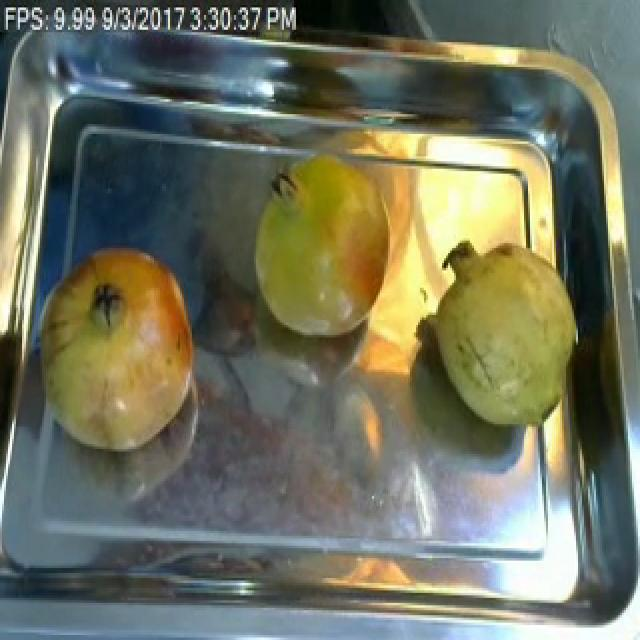fruit: (30, 231, 210, 469), (422, 221, 584, 446), (236, 144, 404, 352)
